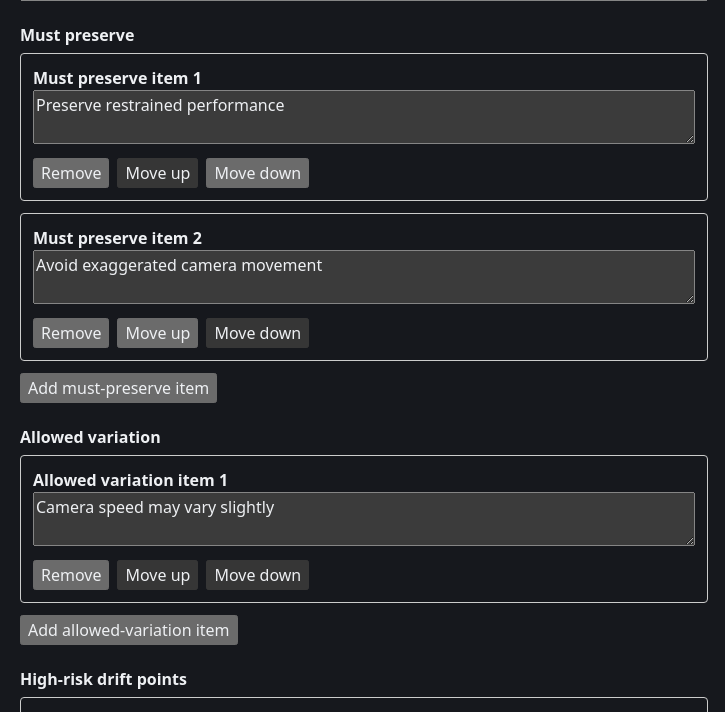
ShotAnchorPage › Core Anchor semantic collections (Step 1A-UI) › lets a VFX Supervisor add, edit, remove, and reorder items in a single-field collection
The image size is (725, 712).
(page scrolled)
Expected: the button with aria-label "Move must-preserve item 1 up" is disabled, [118, 158, 198, 188]
Expected: the button with aria-label "Move must-preserve item 2 down" is disabled, [206, 318, 309, 348]
Click the button "Add must-preserve item".
click(119, 388)  # box [20, 373, 217, 403]
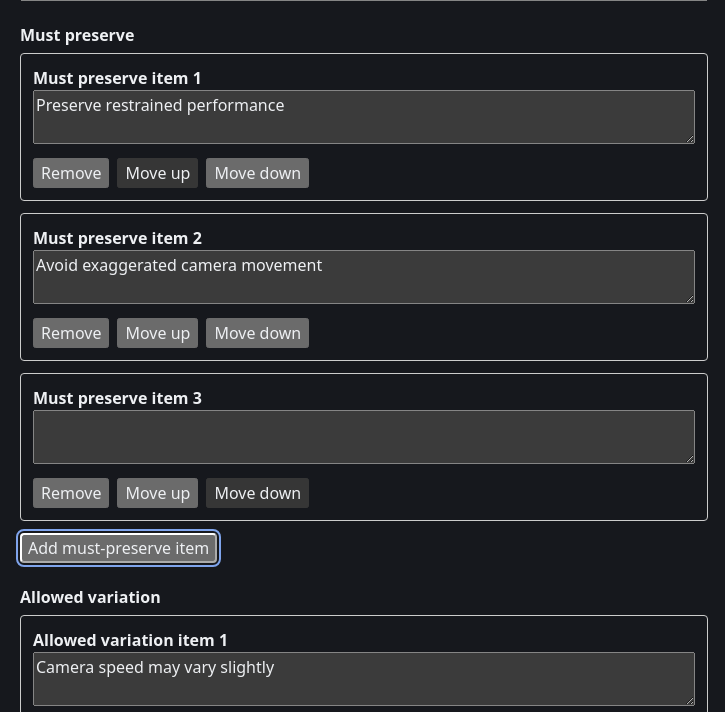
Type "New constraint" into the text box labelled "Must preserve item 3".
click(364, 437); type("New constraint")  # box [33, 410, 695, 464]
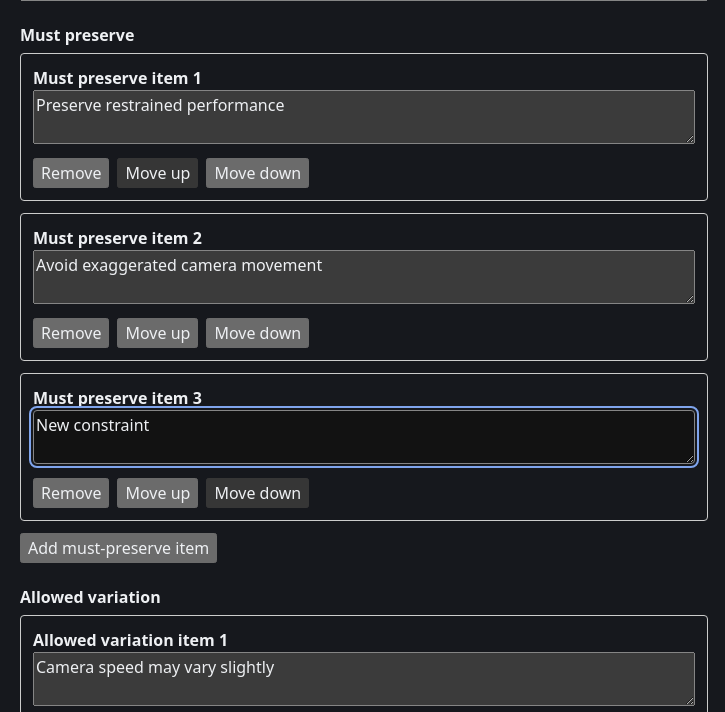
Click the button with aria-label "Move must-preserve item 3 up".
click(158, 493)  # box [118, 478, 198, 508]
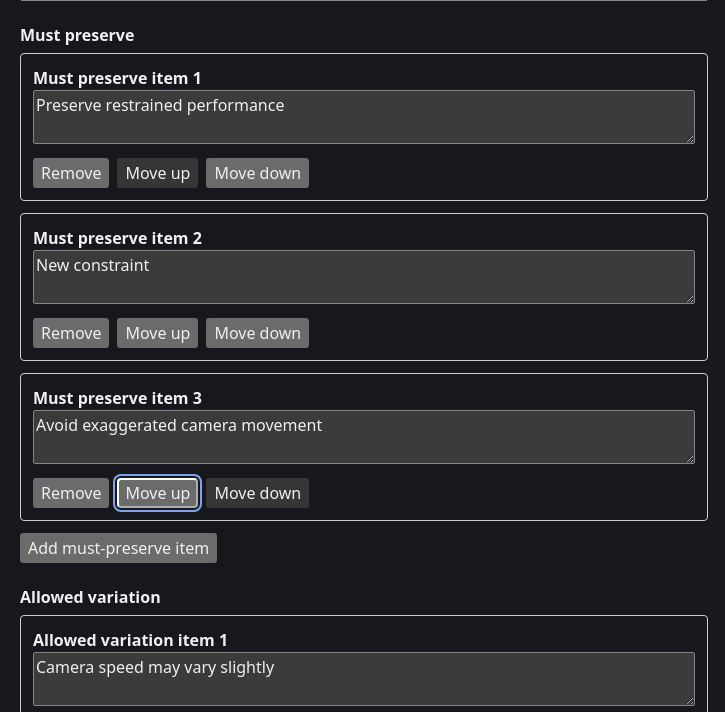
Expected: the text box labelled "Must preserve item 2" holds "New constraint", [33, 250, 695, 304]
Expected: the text box labelled "Must preserve item 3" holds "Avoid exaggerated camera movement", [33, 410, 695, 464]
Click the button with aria-label "Remove must-preserve item 1".
click(71, 173)  # box [33, 158, 110, 188]
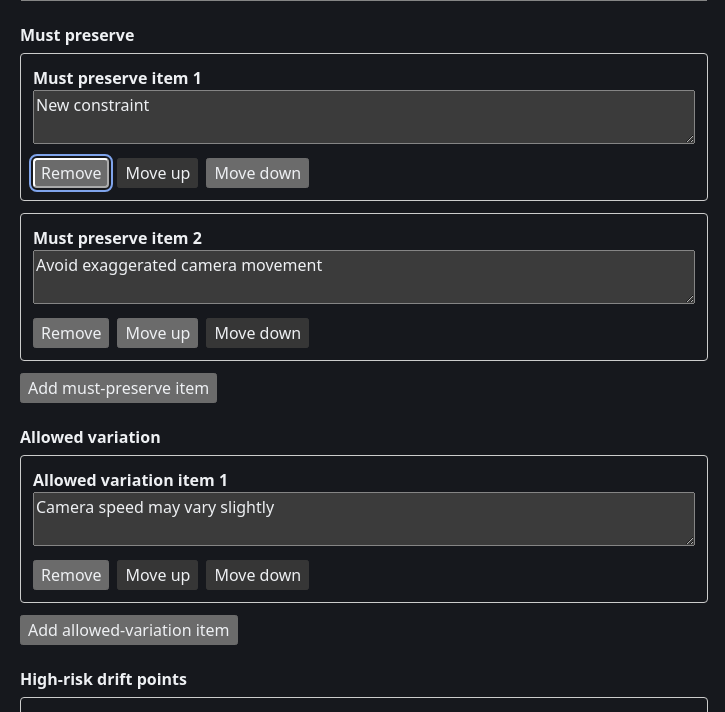
Expected: the text box labelled "Must preserve item 1" holds "New constraint", [33, 90, 695, 144]
Expected: the text box labelled "Must preserve item 2" holds "Avoid exaggerated camera movement", [33, 250, 695, 304]
Expected: the label labelled "Must preserve item 3" is gone
